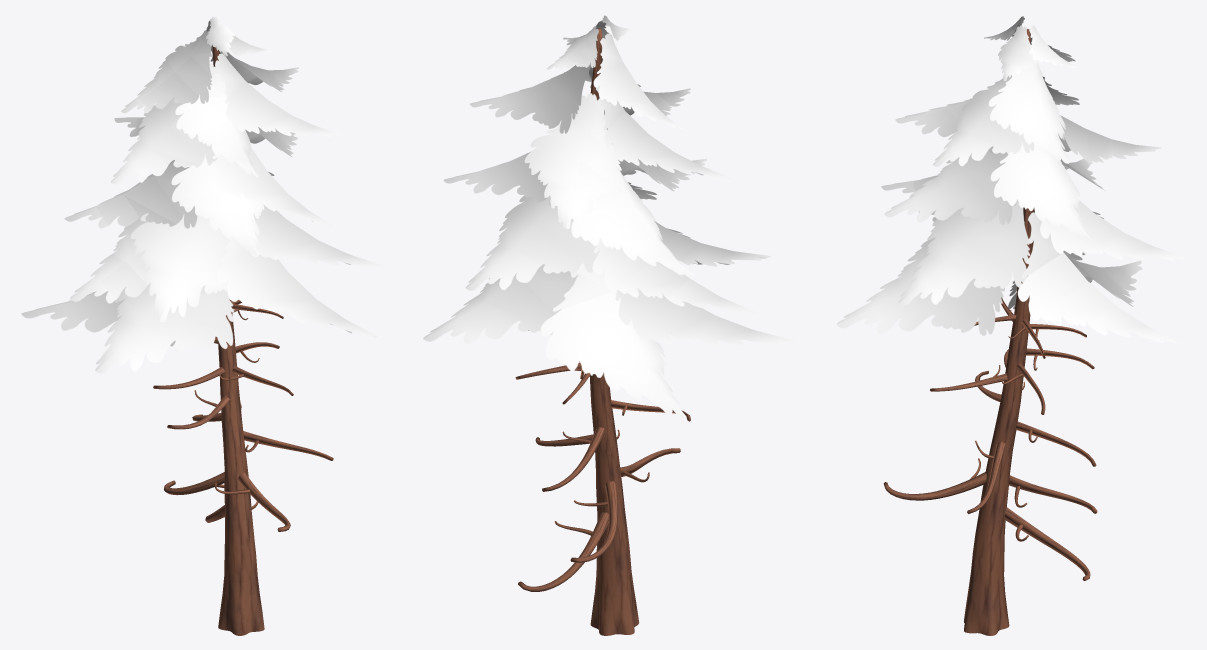
File: pine-3.glb
3 renders of one model, left to right at view 1: azimuth 30°, elevation 25°; view 2: azimuth 150°, elevation 25°; view 3: azimuth 270°, elevation 25°, orthographic. The views are drawn at different scales.
Visible parts, largest first — view 1: tree_030; view 2: tree_030; view 3: tree_030.
Boxes of the visible parts, bbox=[...] form: tree_030: bbox=[21, 16, 382, 635]; tree_030: bbox=[423, 15, 793, 635]; tree_030: bbox=[836, 16, 1186, 635].
Bounding box in the file's own units: 3.61 × 7.39 × 4.
2 materials, 2 textured.
